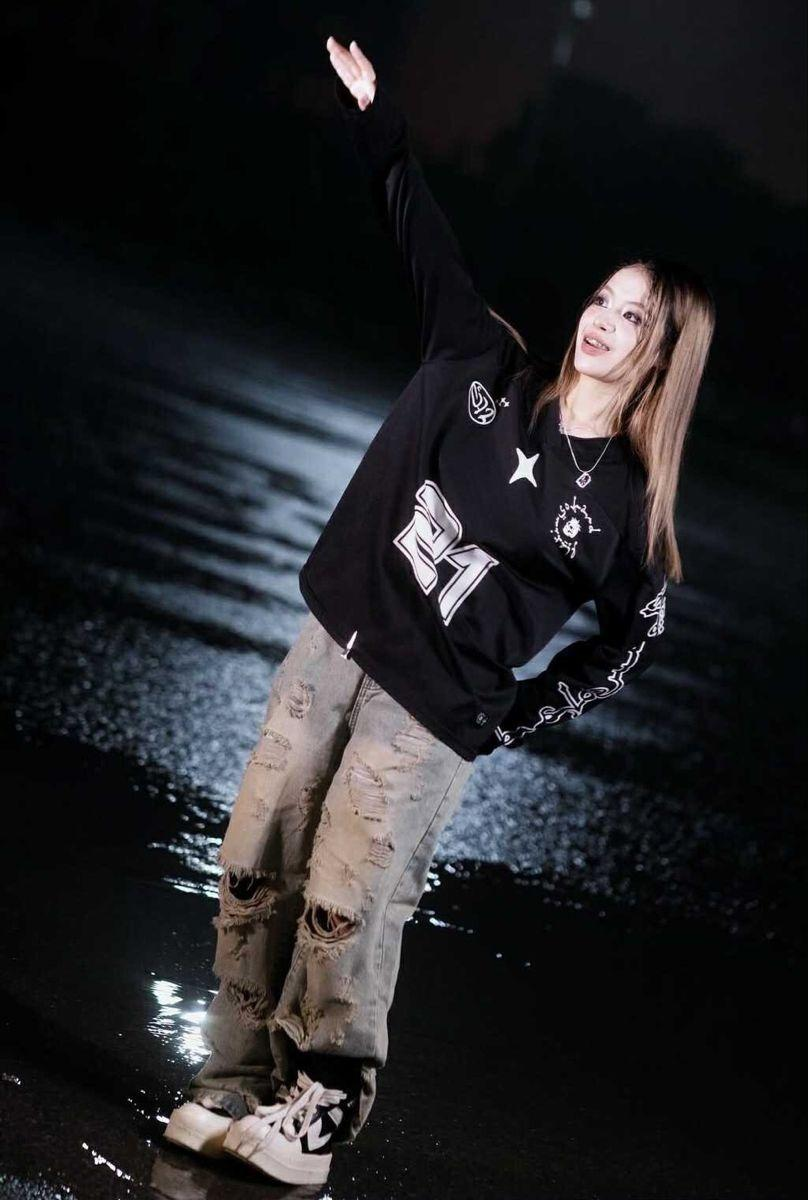non-dog: (163, 36, 719, 1186)
